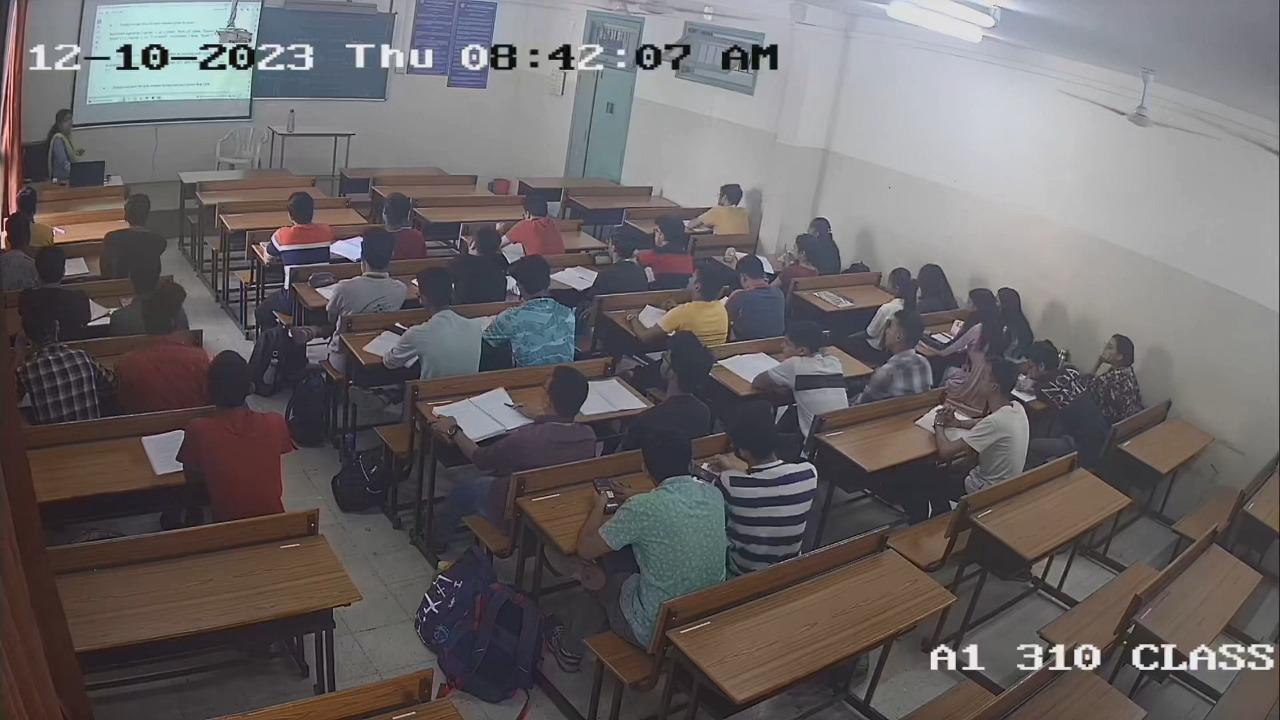cell-phones: (589, 474, 621, 517), (690, 465, 723, 484), (382, 321, 408, 337), (591, 251, 613, 267)
person: (592, 426, 729, 584), (710, 407, 818, 558), (391, 266, 483, 374), (592, 225, 651, 293)
